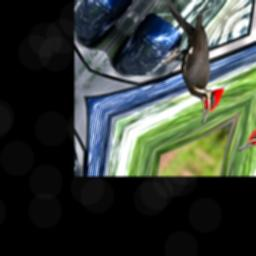Woodpecker: (113, 0, 256, 126)
